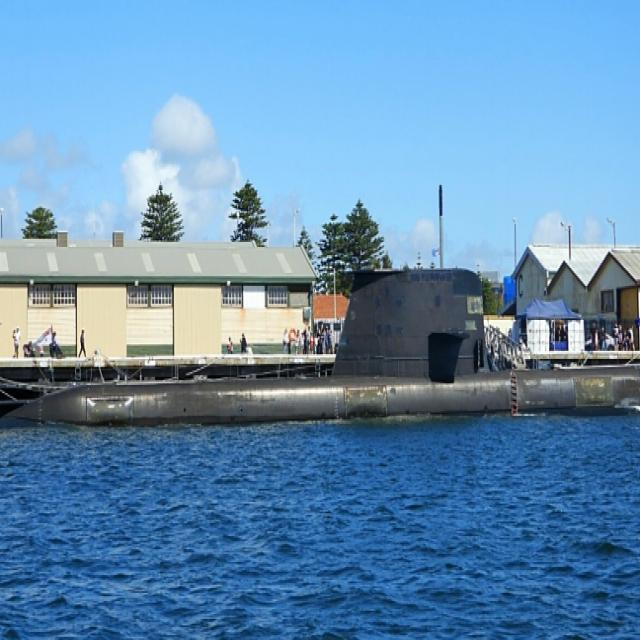submarine: (1, 171, 640, 417)
